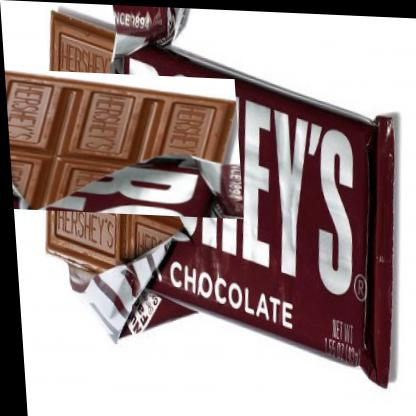chocolate: (2, 38, 214, 248)
